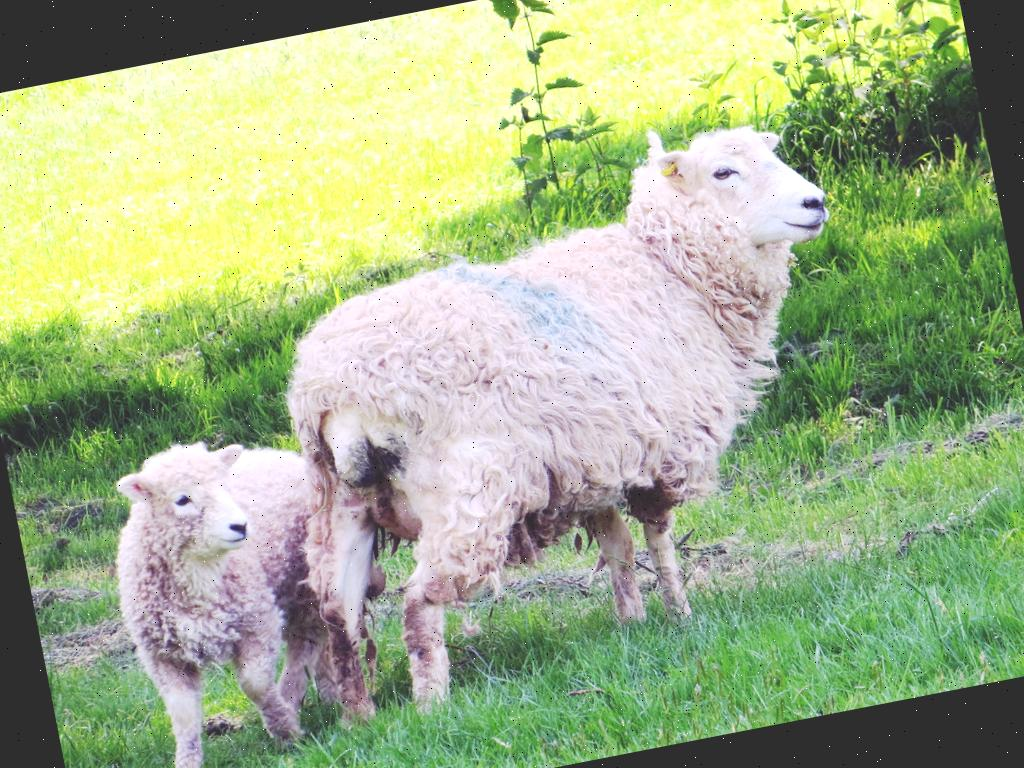Sheep: (246, 92, 912, 716), (93, 412, 415, 768)
